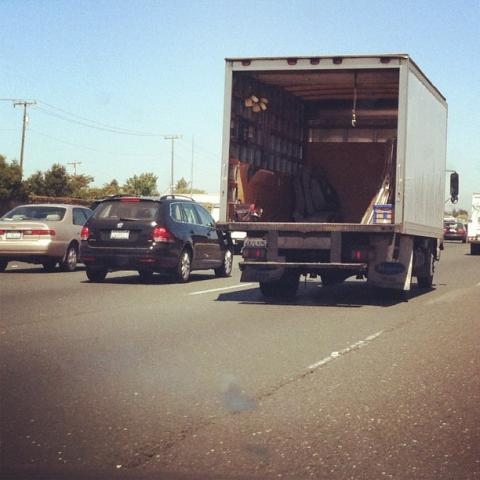car: (83, 197, 232, 287), (0, 204, 94, 274), (444, 222, 468, 243)
truck: (215, 55, 465, 304), (467, 192, 479, 256)
